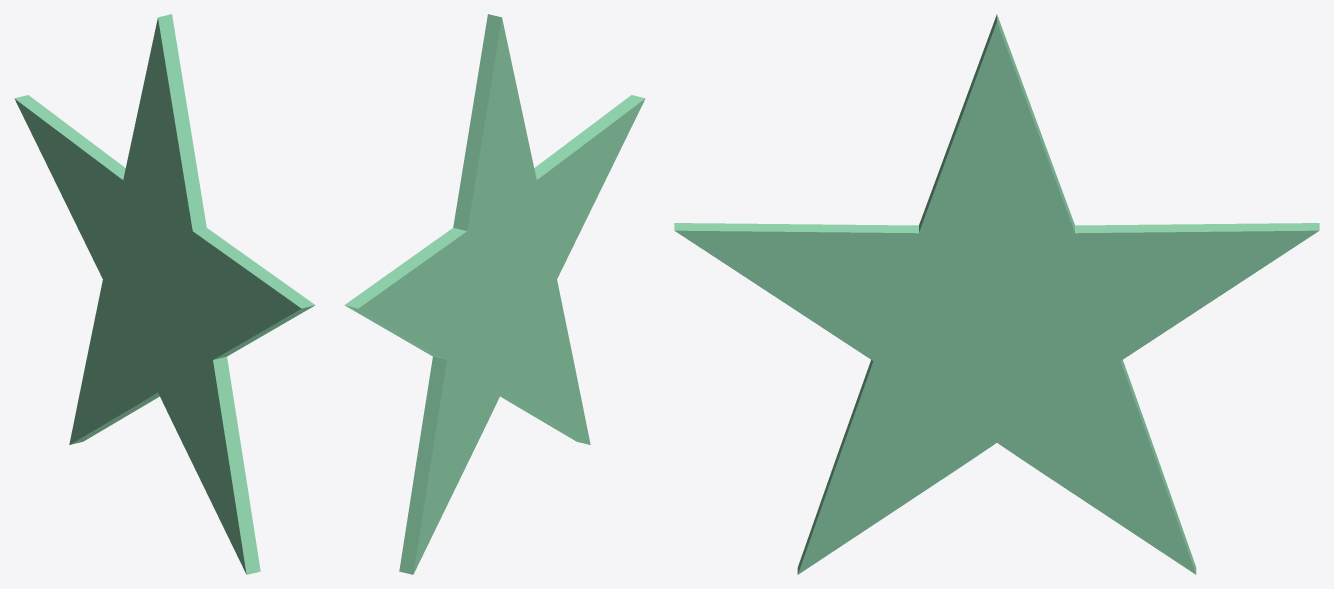
File: estrella.fbx
3 renders of one model, left to right at view 1: azimuth 30°, elevation 25°; view 2: azimuth 150°, elevation 25°; view 3: azimuth 270°, elevation 25°, orthographic. The views are drawn at different scales.
Parts seen in each view (by area): view 1: Plane; view 2: Plane; view 3: Plane.
Part boxes in pixels (x1=…): Plane: x1=14, y1=14, x2=315, y2=574; Plane: x1=344, y1=14, x2=645, y2=574; Plane: x1=674, y1=14, x2=1319, y2=574.
Size of the model in its own units: 2.11 by 70.38 by 74.4.
